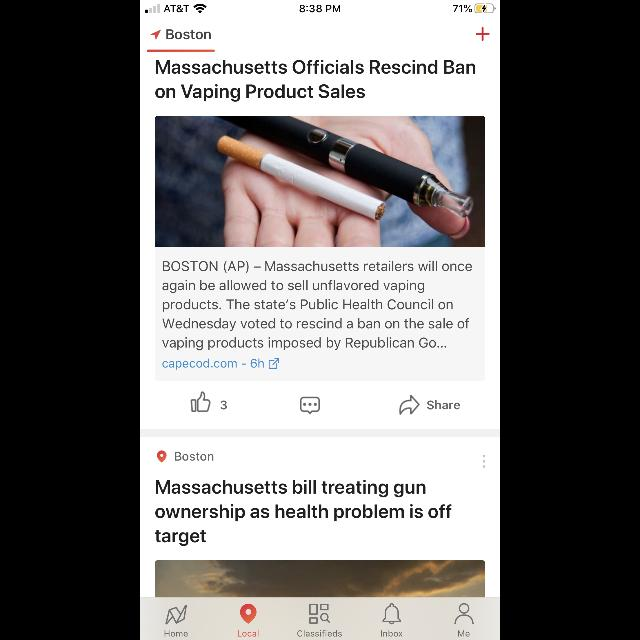icon: (382, 603, 402, 625), (400, 395, 420, 415), (310, 604, 330, 624), (454, 604, 474, 624), (300, 397, 320, 415), (240, 604, 256, 624), (476, 27, 490, 41), (268, 358, 280, 369), (150, 30, 162, 40), (157, 451, 167, 463), (482, 456, 486, 468)
image: (155, 116, 485, 247), (155, 560, 485, 598), (165, 605, 187, 625), (191, 392, 211, 412)
text: (162, 261, 472, 351), (156, 479, 452, 546), (156, 60, 476, 102), (162, 358, 264, 369), (167, 30, 211, 40), (174, 452, 213, 461), (426, 400, 459, 410), (298, 630, 342, 636), (166, 630, 188, 636), (381, 630, 403, 636), (238, 630, 258, 636), (458, 630, 469, 636), (221, 400, 227, 410)
uppertaskbar: (140, 0, 500, 14)
